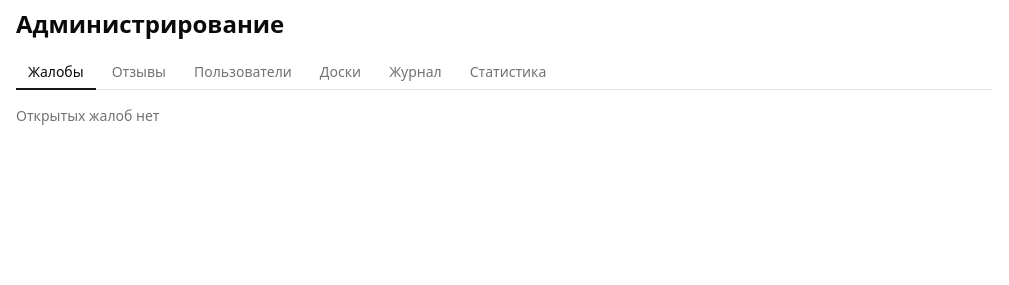
Test: AdminFeedback › opens the author in «Пользователи»
The image size is (1009, 285).
What coordinates should you click on to do the following:
click the tab "Отзывы"
I would click on:
 (139, 73)
Its box is [100,56,178,90].
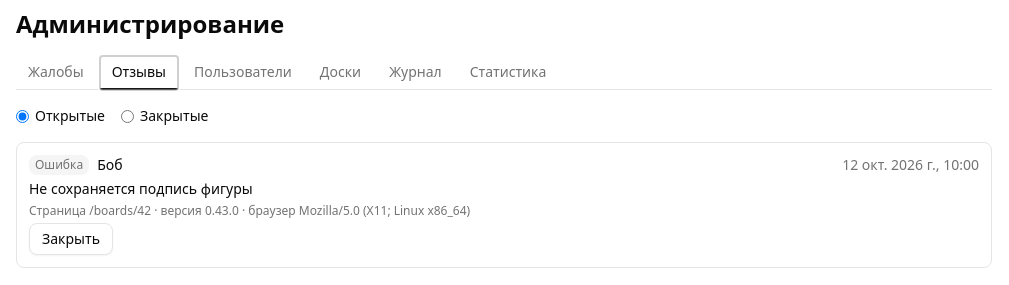
What coordinates should you click on to do the following:
click the button "Боб"
I would click on:
 (110, 165)
Its box is [97,155,123,175].
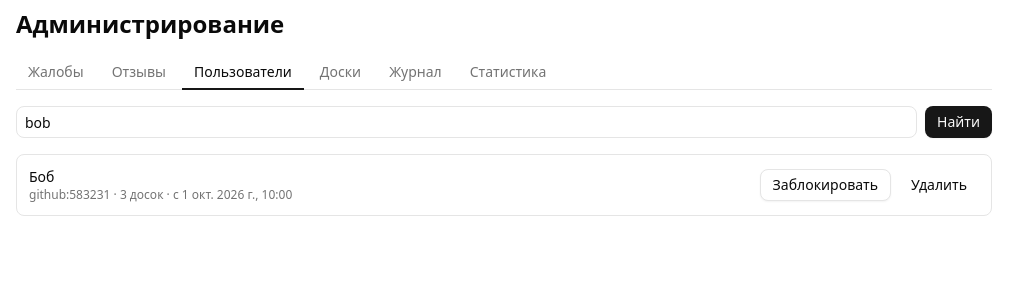
Check: the field named "Имя, id или id у GitHub и Google" holds "bob", box [16,106,917,138]
Check: the list named "Пользователи" shows "github:583231", box [29,186,110,203]
